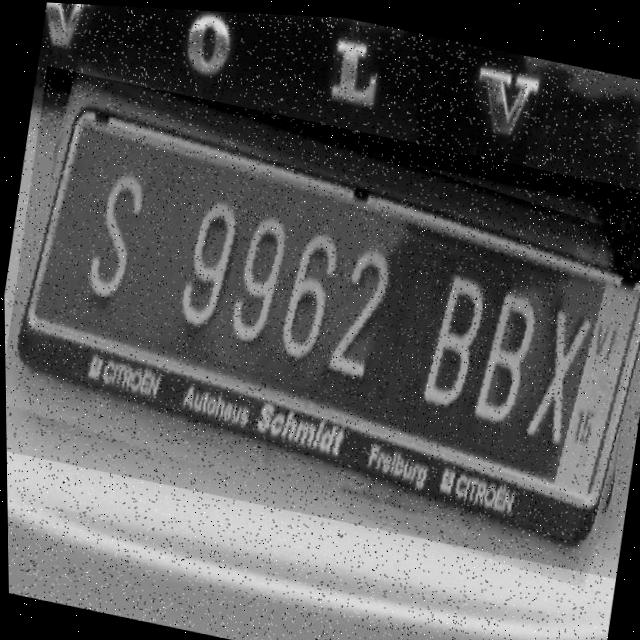LicensePlate: (1, 64, 640, 574)
